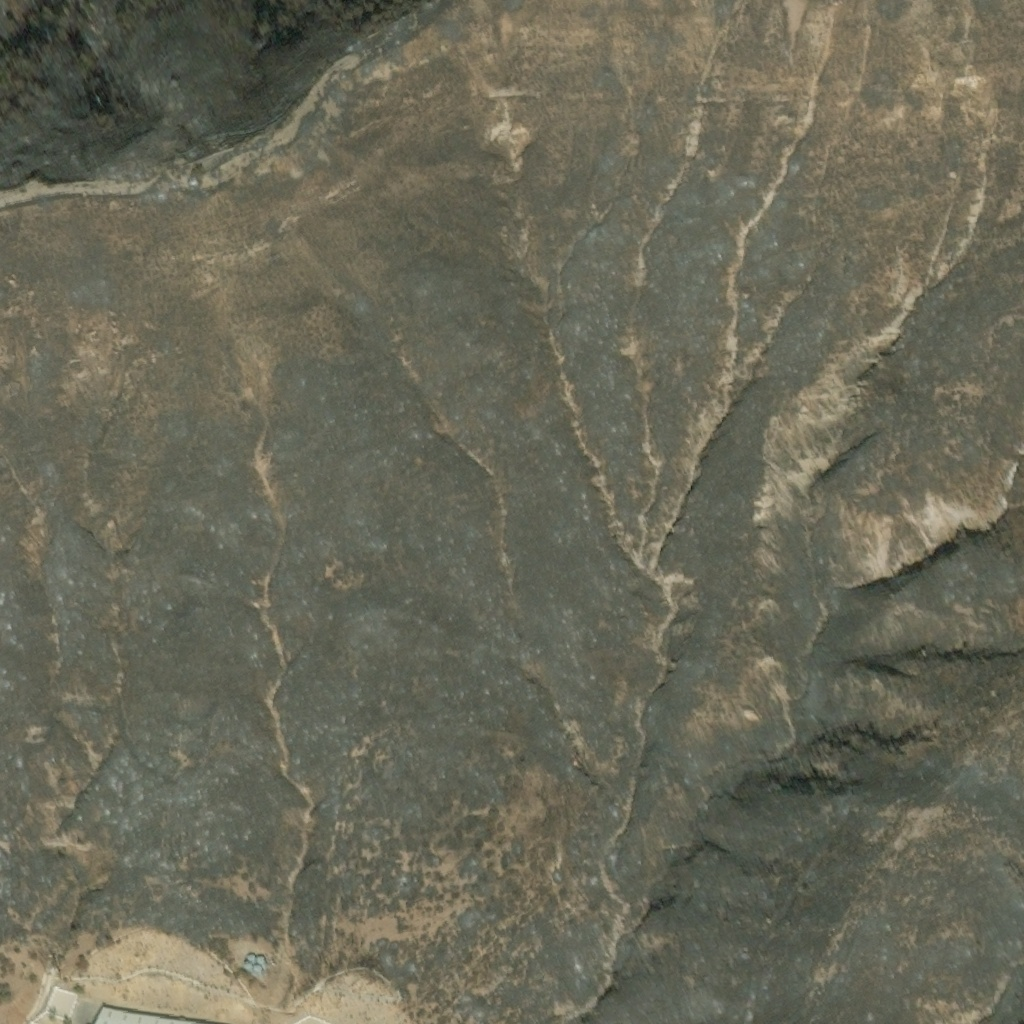0 no-damage: (90, 999, 204, 1023), (242, 949, 264, 971)
